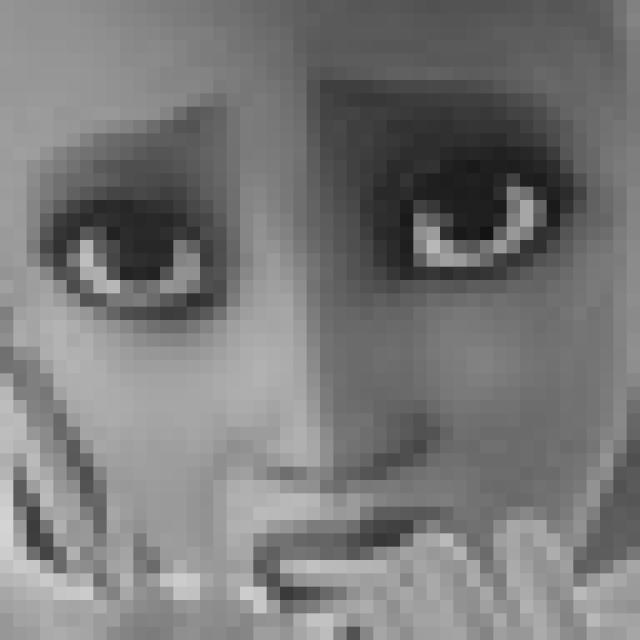fear: (28, 79, 585, 618)
